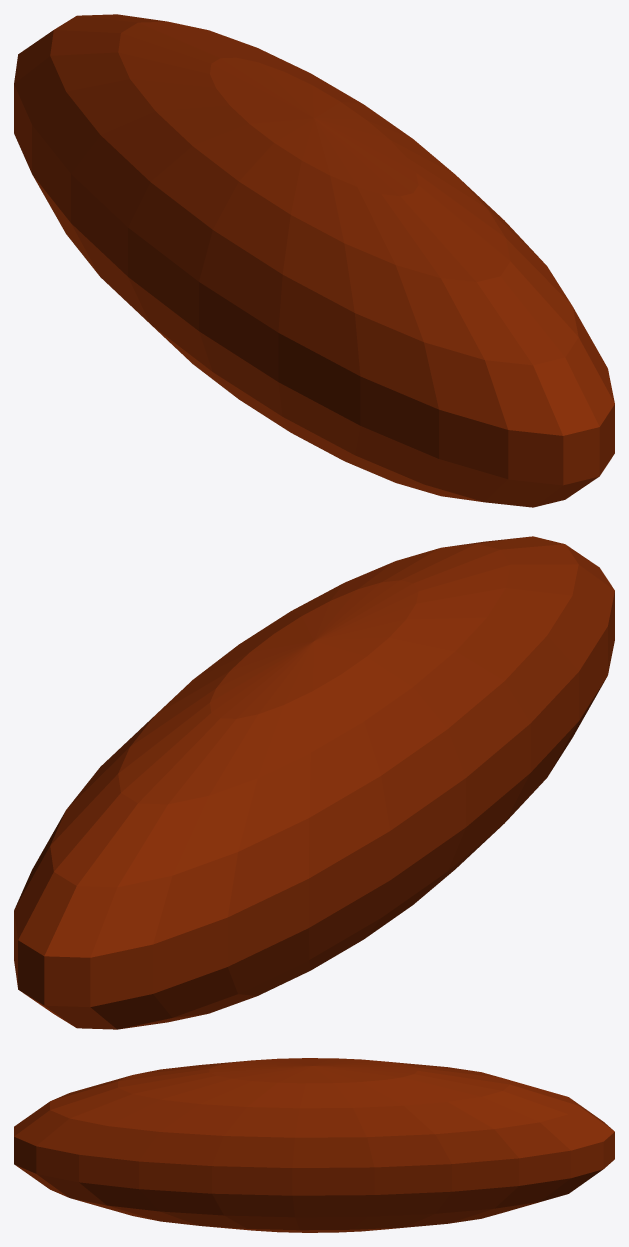
File: bullet.obj
3 renders of one model, top to bottom at view 1: azimuth 30°, elevation 25°; view 2: azimuth 150°, elevation 25°; view 3: azimuth 270°, elevation 25°, orthographic. The views are drawn at different scales.
Parts seen in each view (by area): view 1: Mesh1 skp4EDD1 Model; view 2: Mesh1 skp4EDD1 Model; view 3: Mesh1 skp4EDD1 Model.
Boxes of the visible parts, bbox=[...] form: Mesh1 skp4EDD1 Model: bbox=[14, 14, 614, 507]; Mesh1 skp4EDD1 Model: bbox=[14, 536, 614, 1029]; Mesh1 skp4EDD1 Model: bbox=[14, 1058, 614, 1232].
Bounding box in the file's own units: 0.0523 × 0.0532 × 0.1822.
